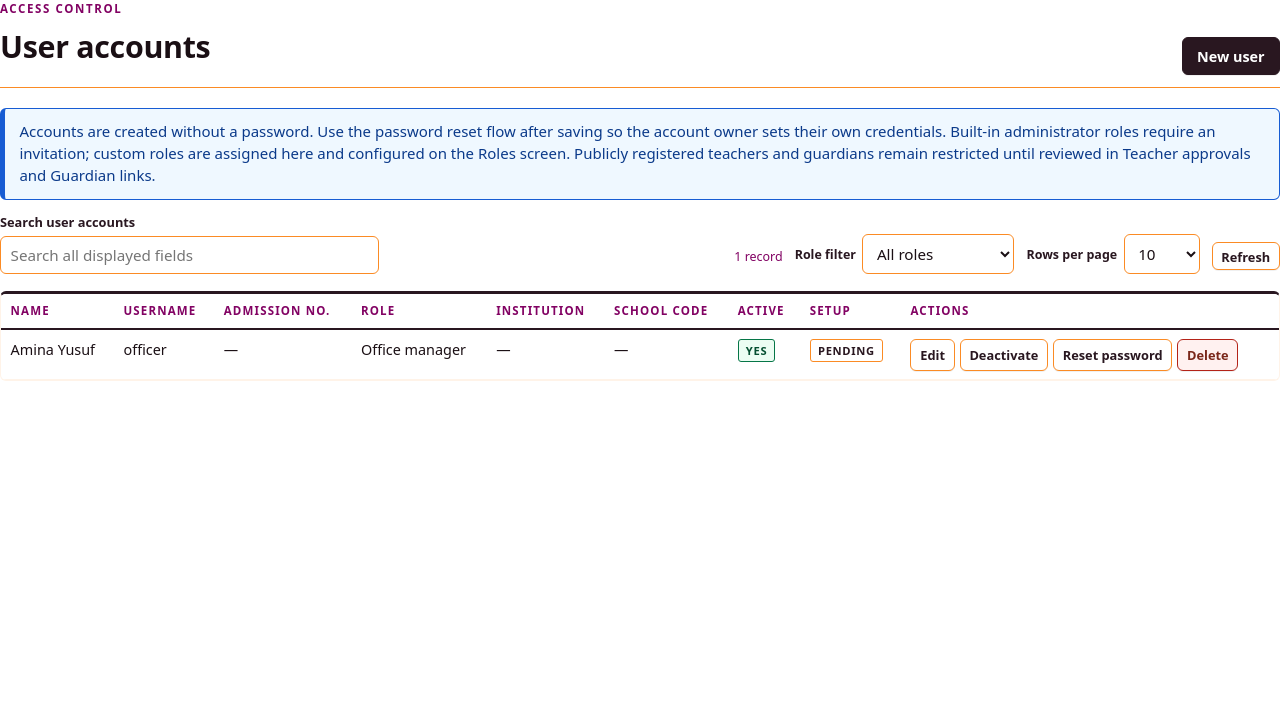
Test: Users custom role assignment › uses a security dialog before generating a temporary password
Click the button with aria-label "Reset password for Amina Yusuf" at (1113, 355), box [1053,339,1172,371]
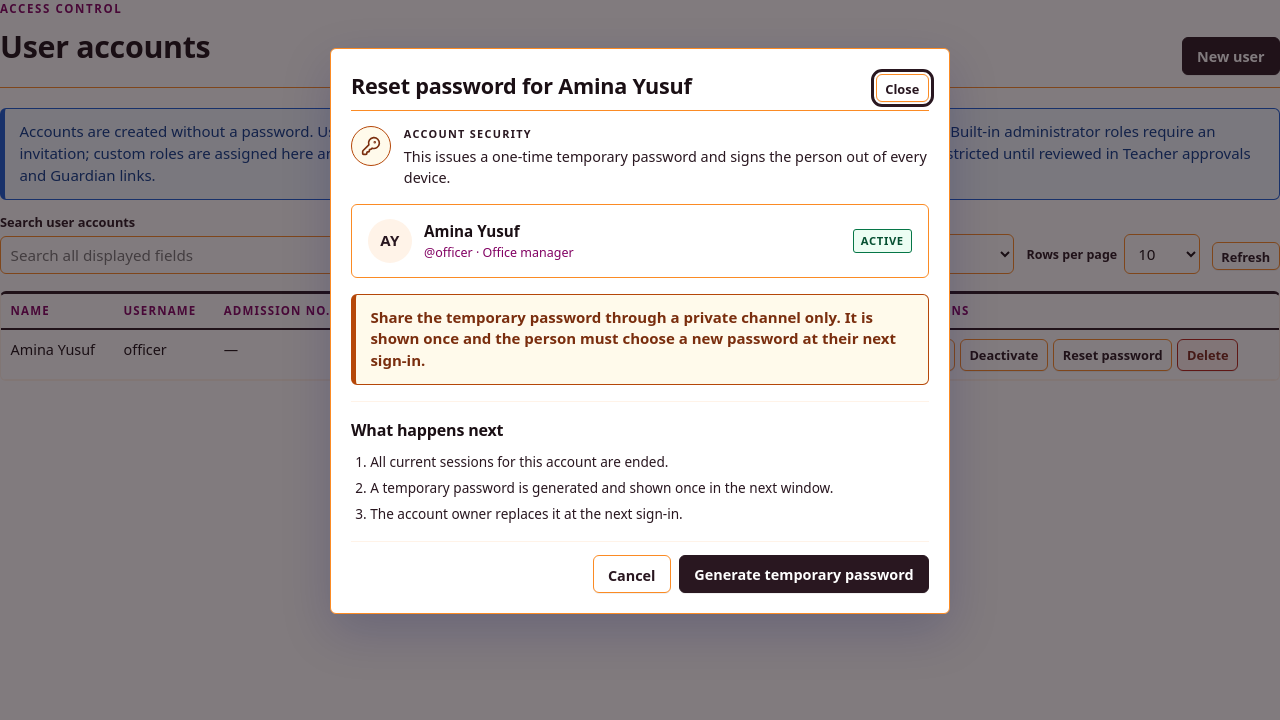
Expected: the text "signs the person out of every device" is shown, [404,147,927,187]
Expected: the text "@officer · Office manager" is shown, [424,244,574,261]
Click the button "Generate temporary password" at (804, 574), box [679,555,929,593]
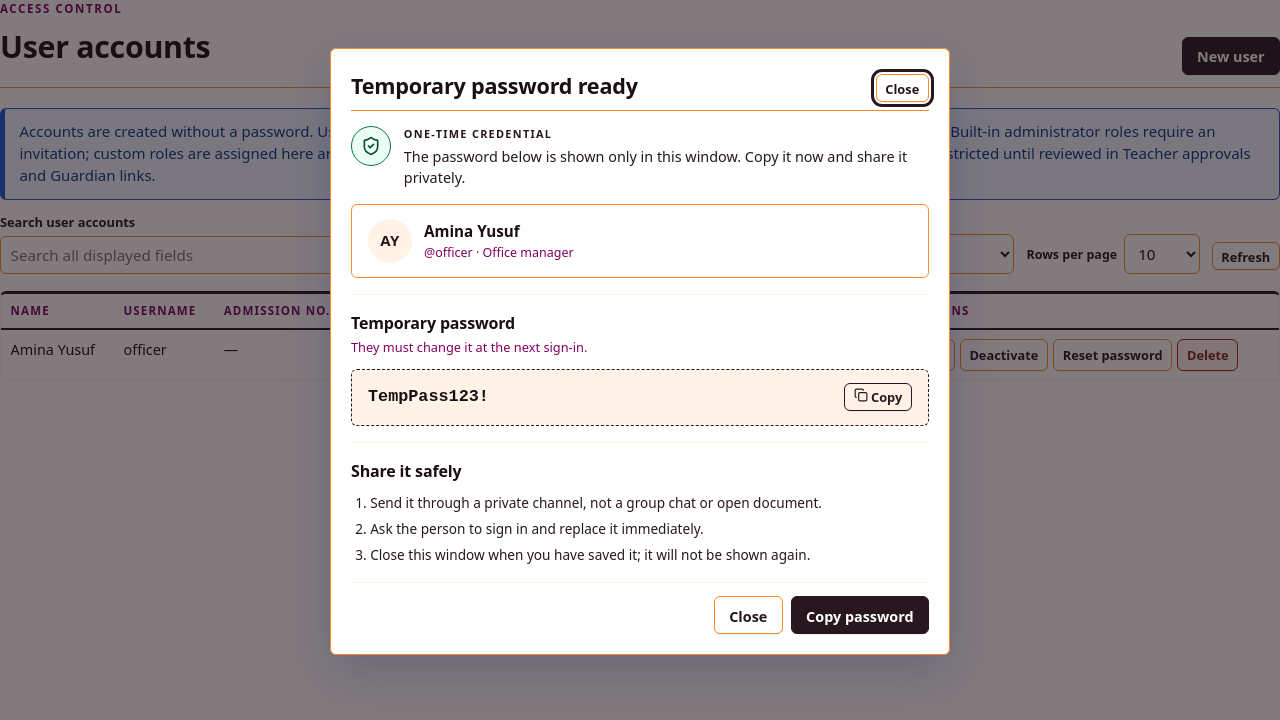
Expected: the dialog "Temporary password ready" is shown, [330,48,950,655]
Expected: the text "TempPass123!" is shown, [368,384,489,410]
Expected: the text "shown only in this window" is shown, [404,147,907,187]
